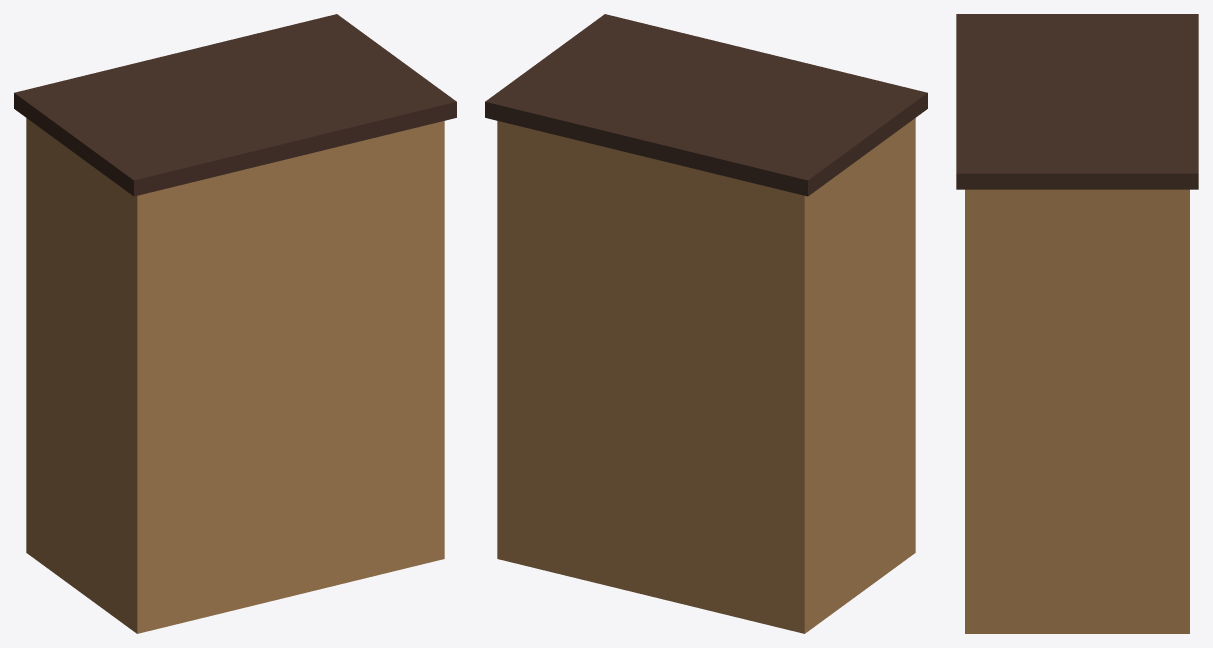
3 renders of one model, left to right at view 1: azimuth 30°, elevation 25°; view 2: azimuth 150°, elevation 25°; view 3: azimuth 270°, elevation 25°, orthographic.
Visible parts, largest first — view 1: self_checkin; view 2: self_checkin; view 3: self_checkin.
Boxes of the visible parts, x1,y1,x2,y2 form: self_checkin: (14, 14, 456, 633); self_checkin: (485, 14, 927, 633); self_checkin: (956, 14, 1198, 633).
Size of the model in its own units: 0.84 by 0.54 by 1.14.
